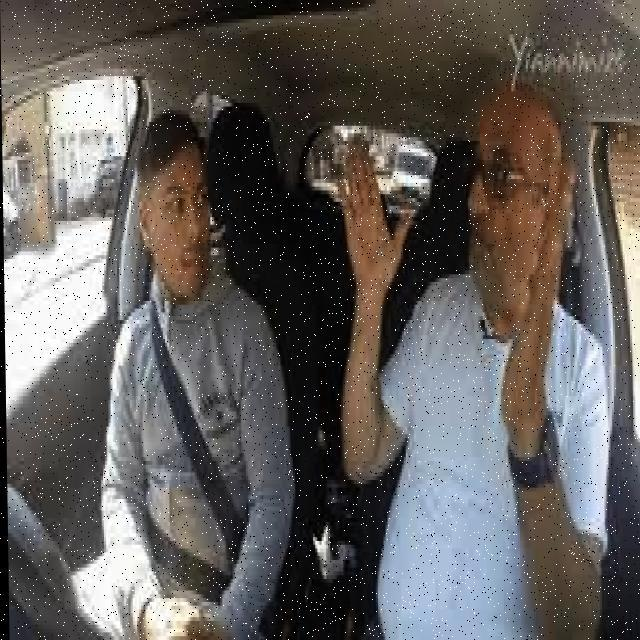noSeatbelt: (384, 266, 576, 640)
seatbelt: (126, 285, 268, 589)
